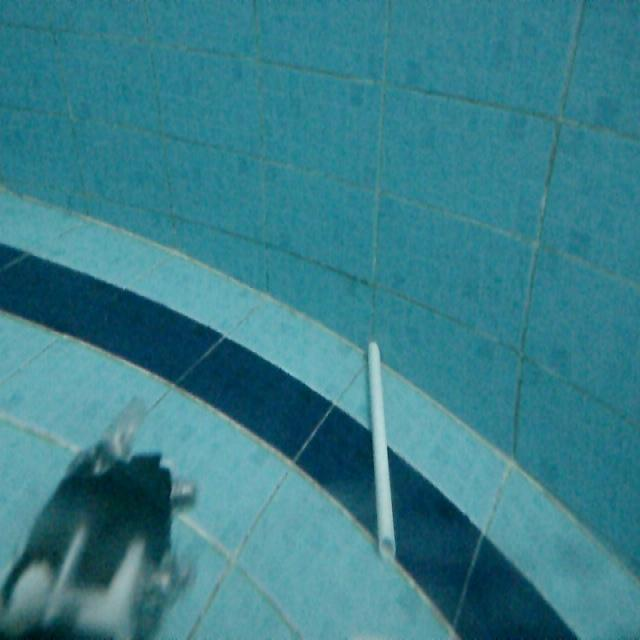Cube: (363, 335, 399, 561)
